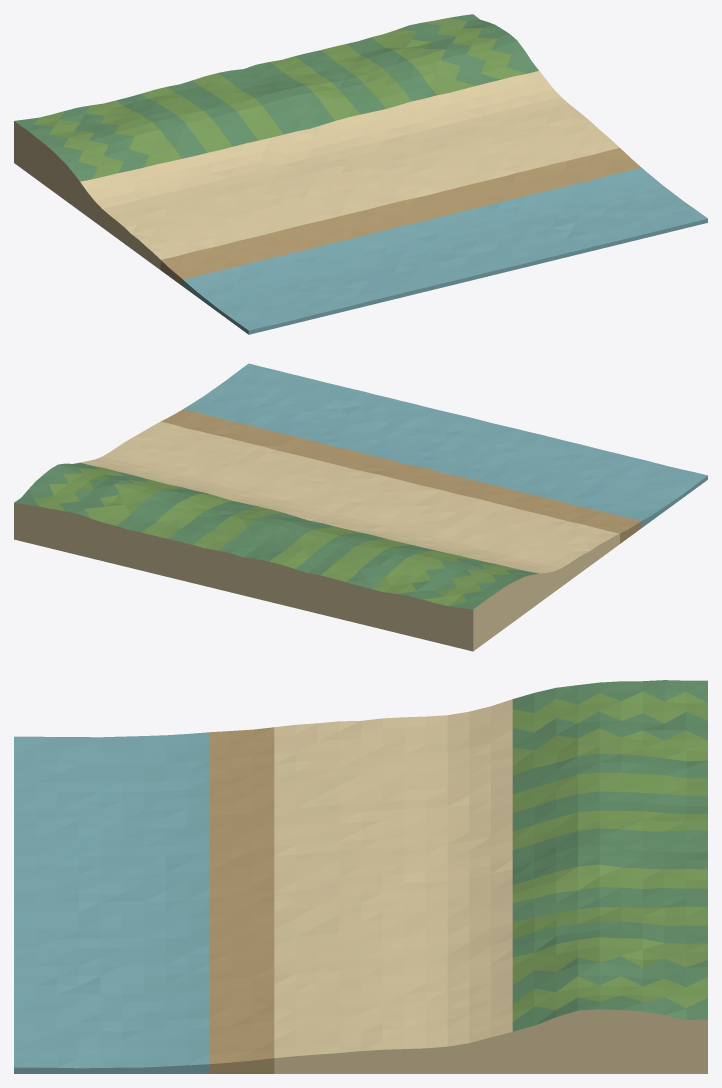
File: TERRAIN_11.obj
3 views of the same model, one above another, from view 1: azimuth 30°, elevation 25°; view 2: azimuth 150°, elevation 25°; view 3: azimuth 270°, elevation 25° (orthographic). The views are drawn at different scales.
Parts seen in each view (by area): view 1: TERRAIN_11; view 2: TERRAIN_11; view 3: TERRAIN_11.
Boxes of the visible parts, <box> form: TERRAIN_11: <box>14,14,707,334</box>; TERRAIN_11: <box>14,363,707,651</box>; TERRAIN_11: <box>14,680,707,1073</box>.
Bounding box in the file's own units: 70 × 6.43 × 62.
